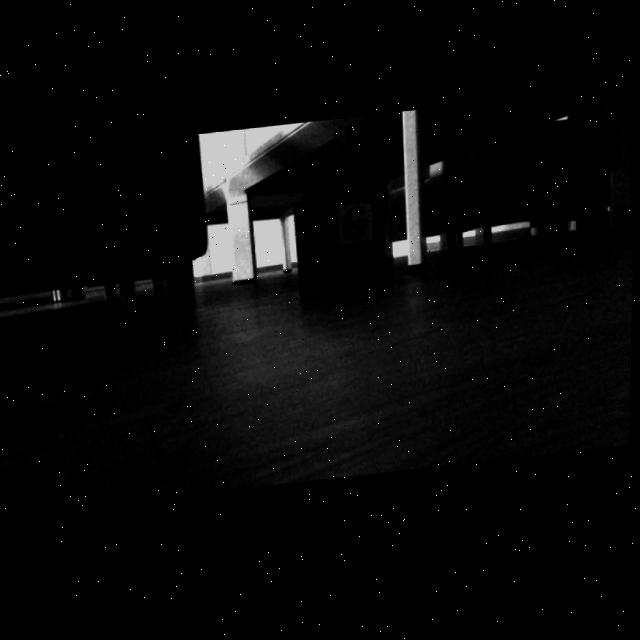G: (345, 211, 369, 244)
